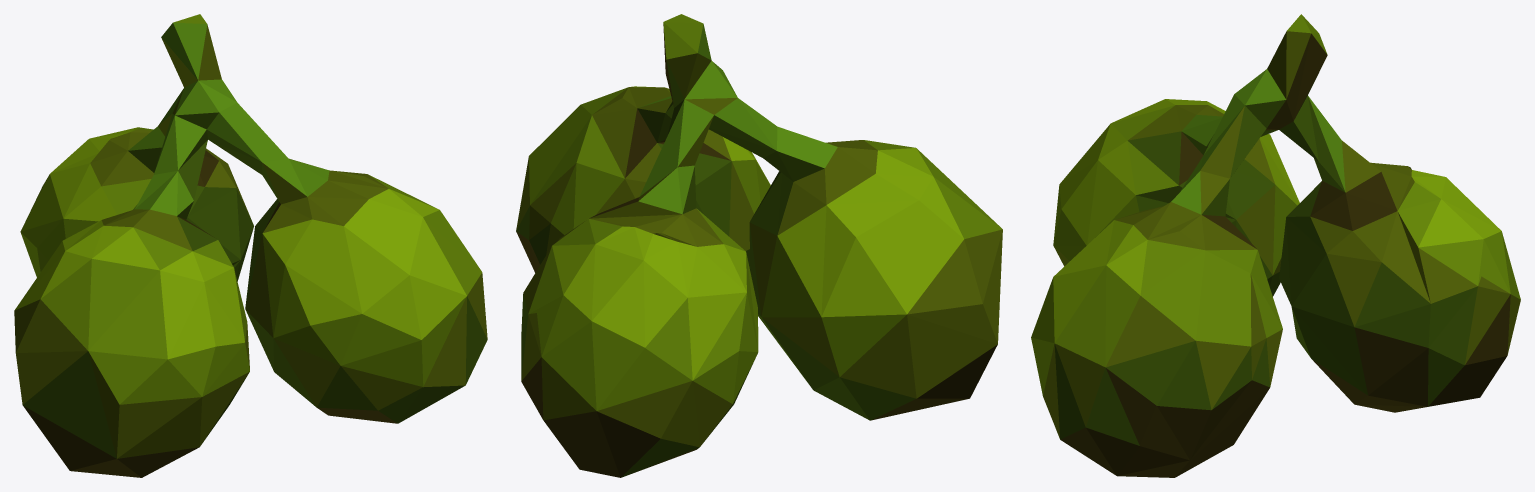
File: coconut-cluster.glb
3 views of the same model, side by side, from view 1: azimuth 30°, elevation 25°; view 2: azimuth 150°, elevation 25°; view 3: azimuth 270°, elevation 25° (orthographic). The views are drawn at different scales.
Visible parts, largest first — view 1: coconut-cluster; view 2: coconut-cluster; view 3: coconut-cluster.
Part boxes in pixels (x1,y1,x2,y2): coconut-cluster: (14,14,487,477); coconut-cluster: (516,14,1002,477); coconut-cluster: (1031,14,1520,477).
Bounding box in the file's own units: 0.6078 × 0.4903 × 0.562.
